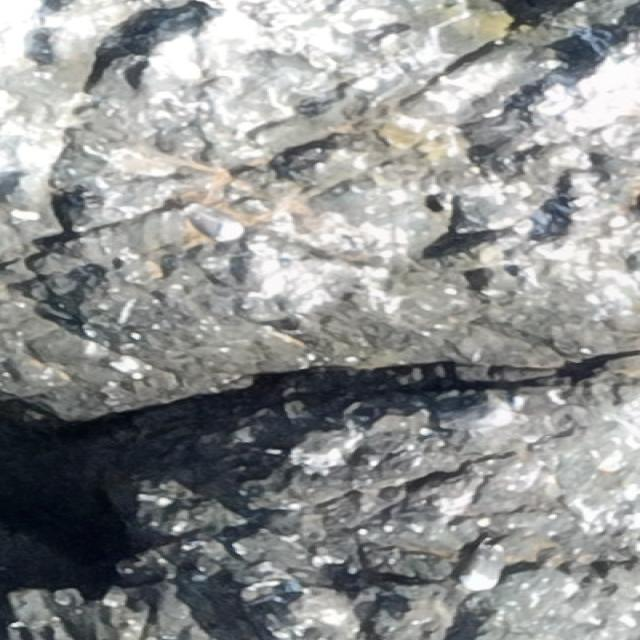umineko: (179, 203, 244, 240), (459, 541, 503, 593)
